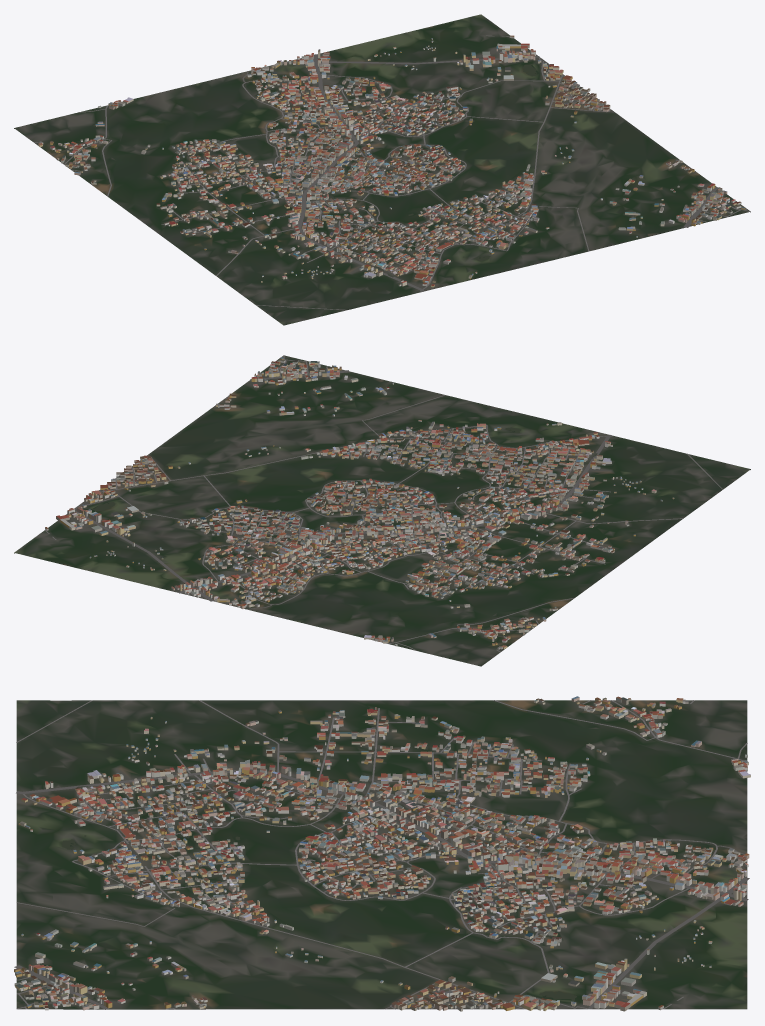
The picture shows the model from 3 angles, top to bottom: view 1: azimuth 30°, elevation 25°; view 2: azimuth 150°, elevation 25°; view 3: azimuth 270°, elevation 25°; orthographic projection. The views are drawn at different scales.
Visible parts, largest first — view 1: ground, buildings, roads; view 2: ground, buildings, roads; view 3: ground, buildings, roads.
Part boxes in pixels (x1,y1,x2,y2): ground: (14,14,750,325); buildings: (38,35,745,287); roads: (33,35,750,310); ground: (14,355,750,666); buildings: (45,357,674,649); roads: (45,355,722,652); ground: (16,700,747,1009); buildings: (14,696,750,1011); roads: (14,700,749,1009).
Bounding box in the file's own units: 1419 × 24.11 × 1414.
